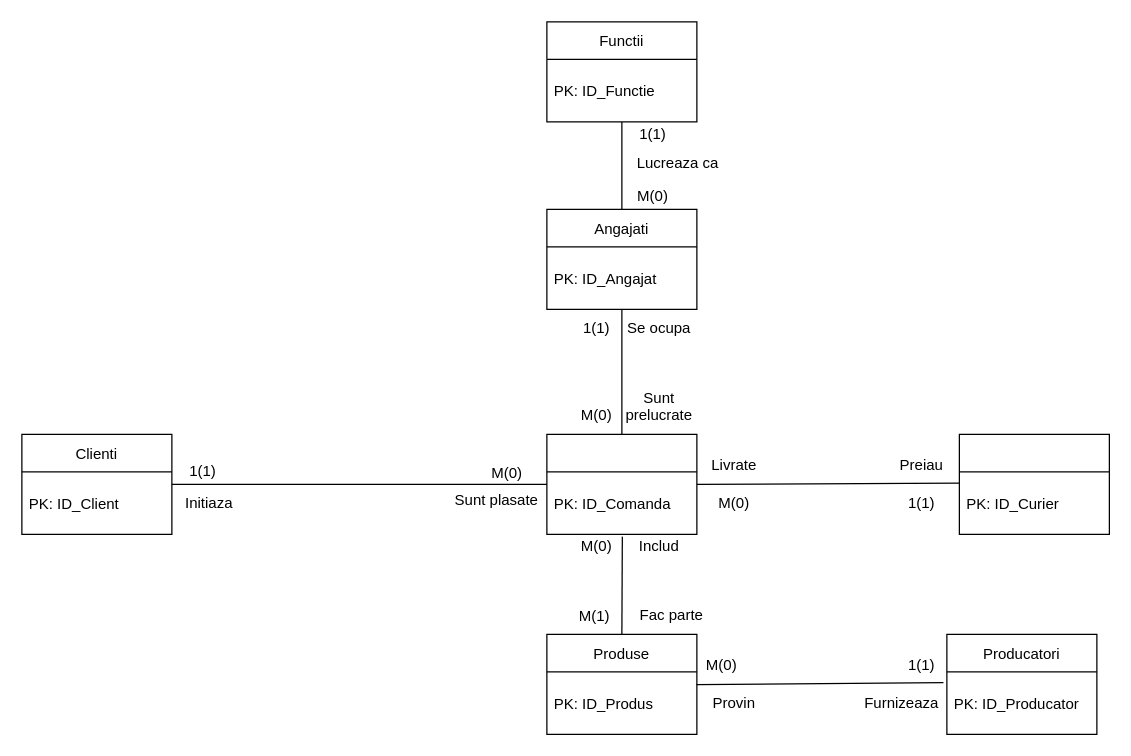
Some shapes in this 1131 by 756 pixel diagram are drawn without their labels. The box of each missing label's shape, as (x1, y1, x2, y2) in pixels:
Comenzi: (546, 433, 697, 534)
Curieri: (958, 433, 1109, 534)
